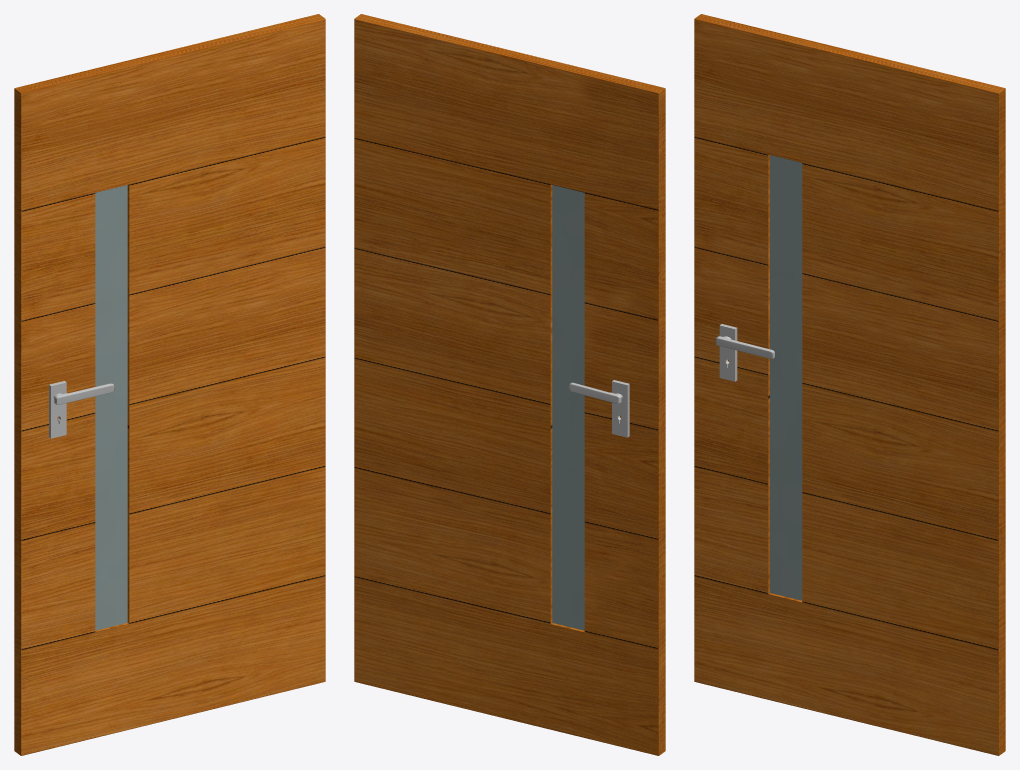
3 views of the same model, side by side, from view 1: azimuth 30°, elevation 25°; view 2: azimuth 150°, elevation 25°; view 3: azimuth 330°, elevation 25° (orthographic).
Parts seen in each view (by area): view 1: polySurface1, locker_back.001, handle_2.001; view 2: polySurface1, locker_back.002, handle_2.002; view 3: polySurface1, locker_back.001, handle_2.001.
Part boxes in pixels (x1,y1,x2,y2): polySurface1: (14, 14, 325, 755); locker_back.001: (49, 381, 66, 438); handle_2.001: (53, 383, 114, 404); polySurface1: (354, 14, 665, 755); locker_back.002: (612, 380, 629, 437); handle_2.002: (569, 382, 622, 403); polySurface1: (694, 14, 1005, 755); locker_back.001: (719, 324, 737, 381); handle_2.001: (715, 336, 774, 358).
Bounding box in the file's own units: 1.77 × 3.68 × 0.2165.
2 materials, 1 textured.
